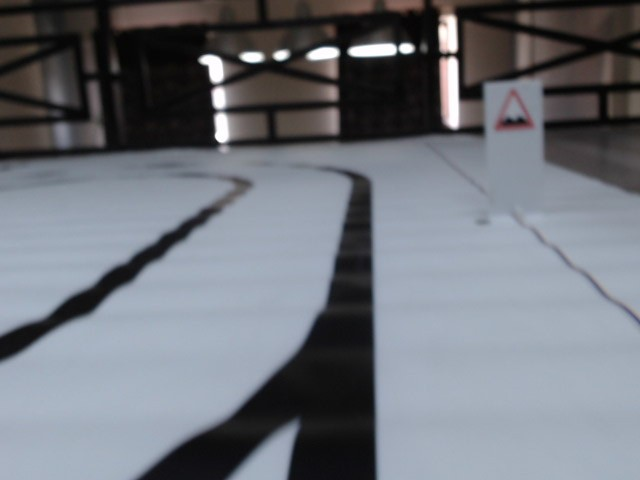Nerov: (493, 88, 536, 133)
